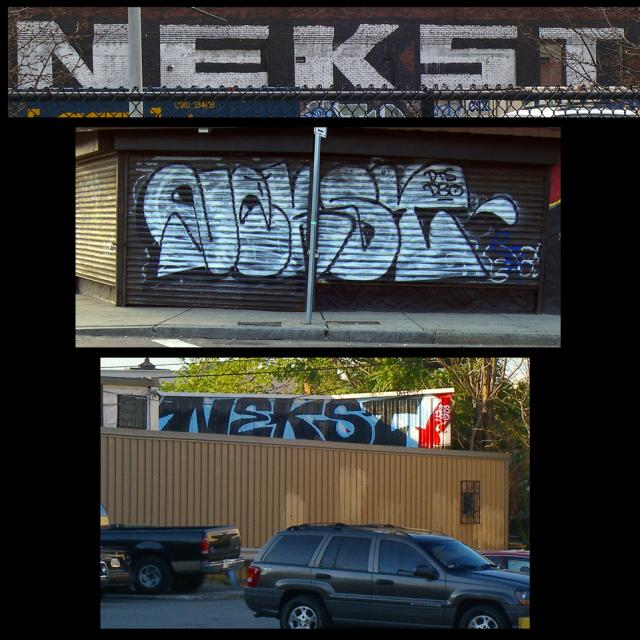car: (237, 518, 534, 634)
